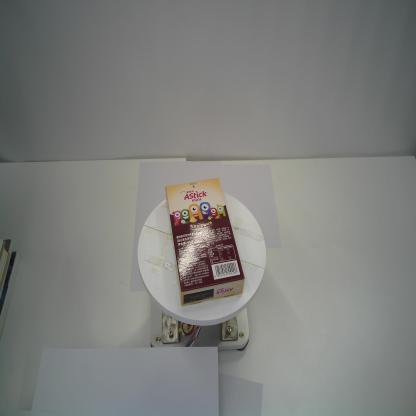Dessert: (165, 177, 245, 307)
